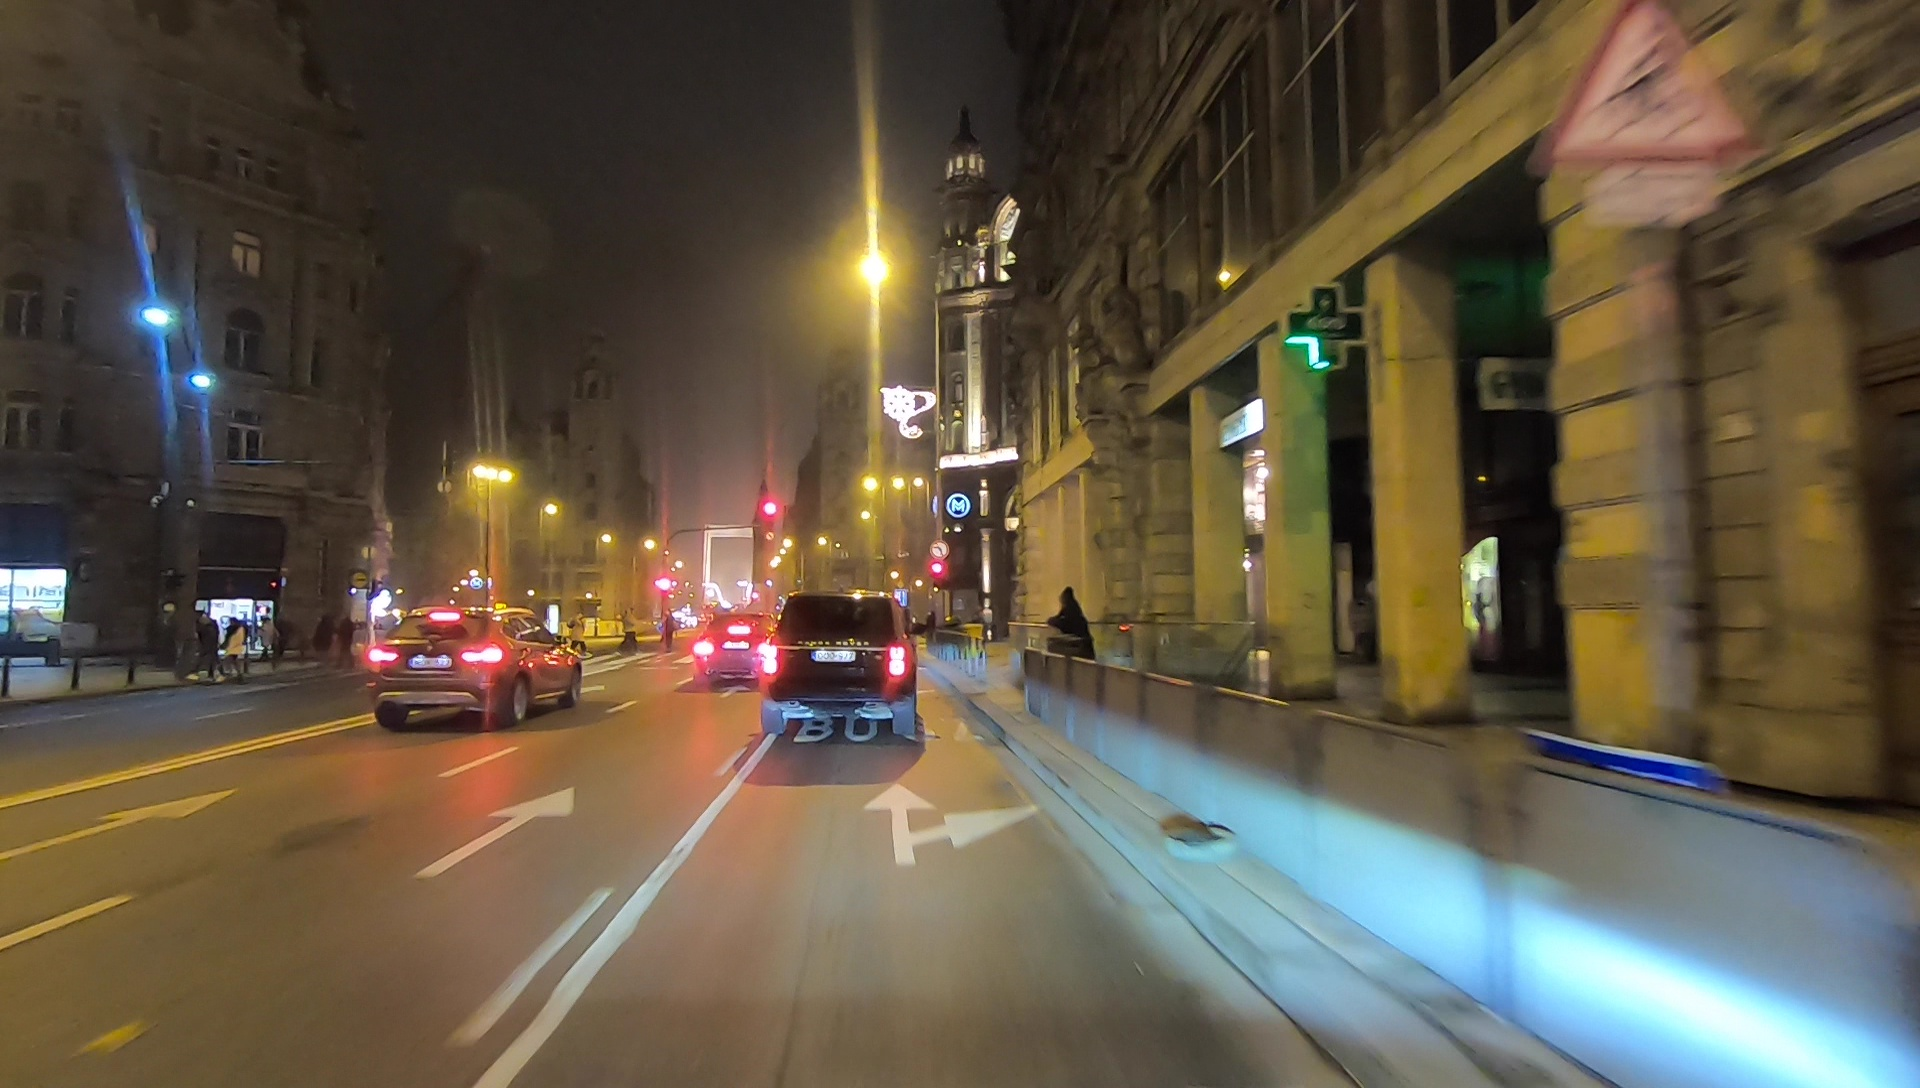person: (189, 608, 217, 686), (223, 616, 245, 684), (313, 612, 335, 668), (568, 607, 591, 659), (338, 615, 355, 669), (257, 613, 275, 662), (618, 607, 636, 655), (660, 607, 677, 653)
